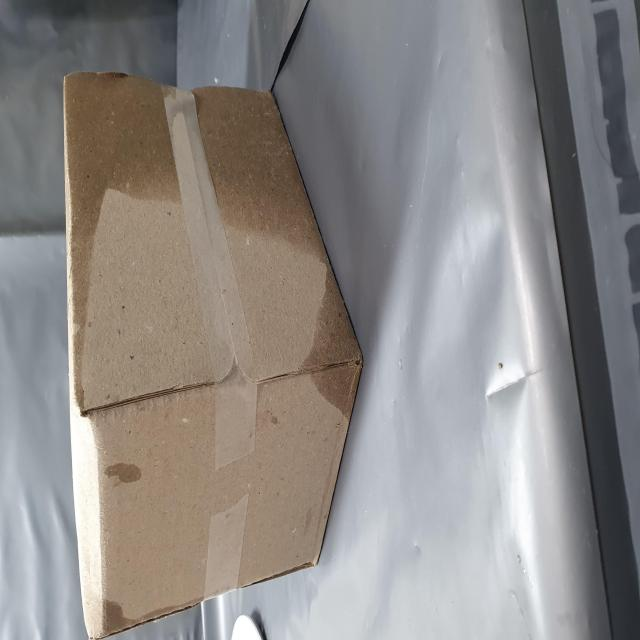wet: (160, 123, 314, 562), (116, 529, 208, 638)
